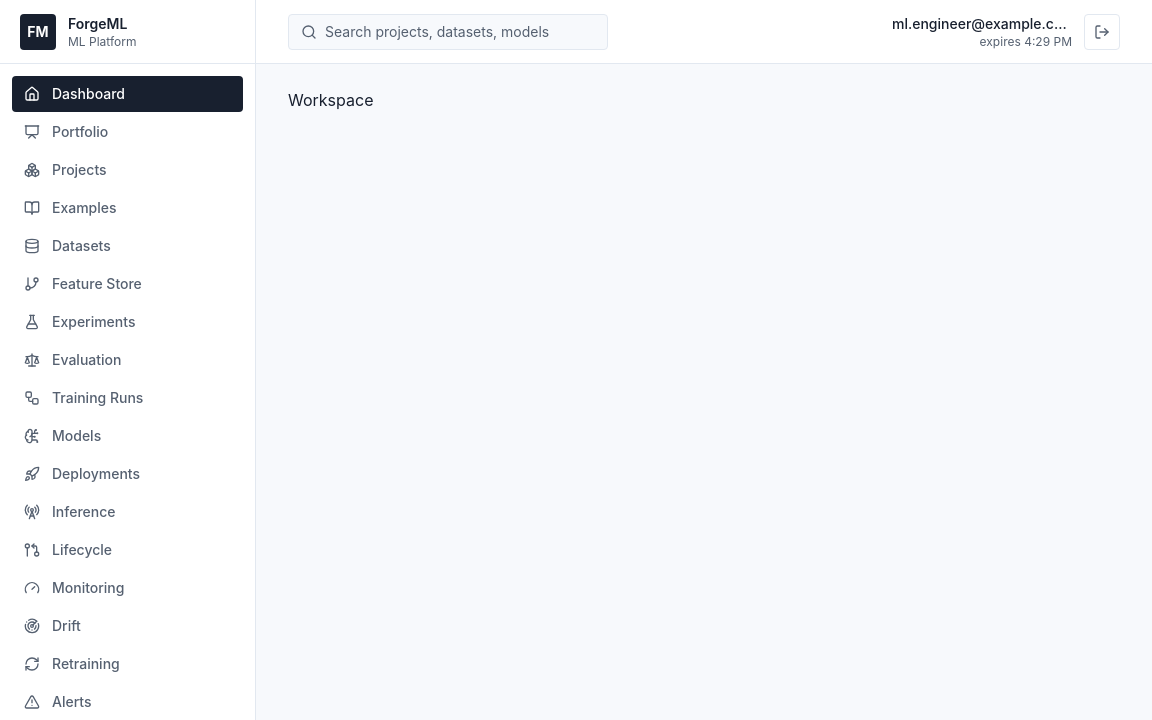
Shell › loads the current principal and clears auth state on sign out
The width and height of the screenshot is (1152, 720).
Expected: the text "ml.engineer@example.com" is shown, [892,14,1072,34]
Click the button named "Sign out" at (1102, 32), box [1084,14,1120,50]
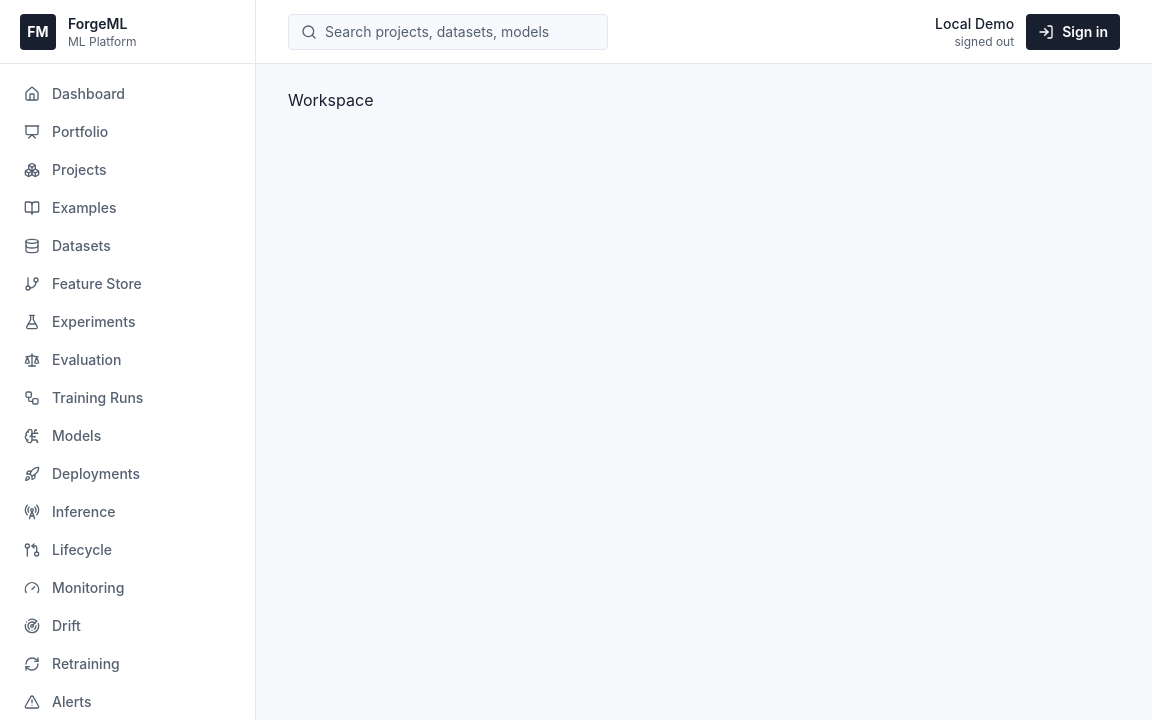
Result: the link "Sign in" is shown at [1026,14,1120,50]
